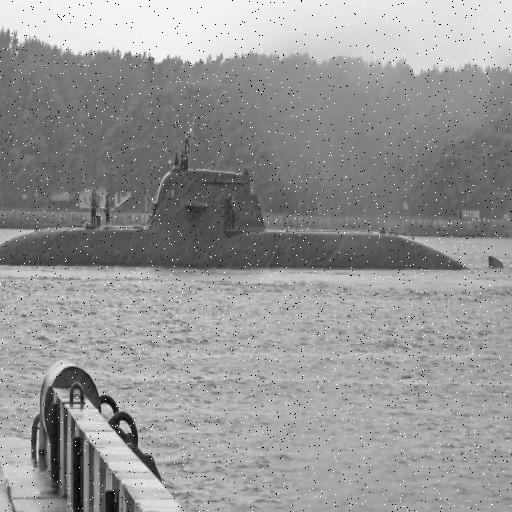submarine: (1, 169, 512, 272)
